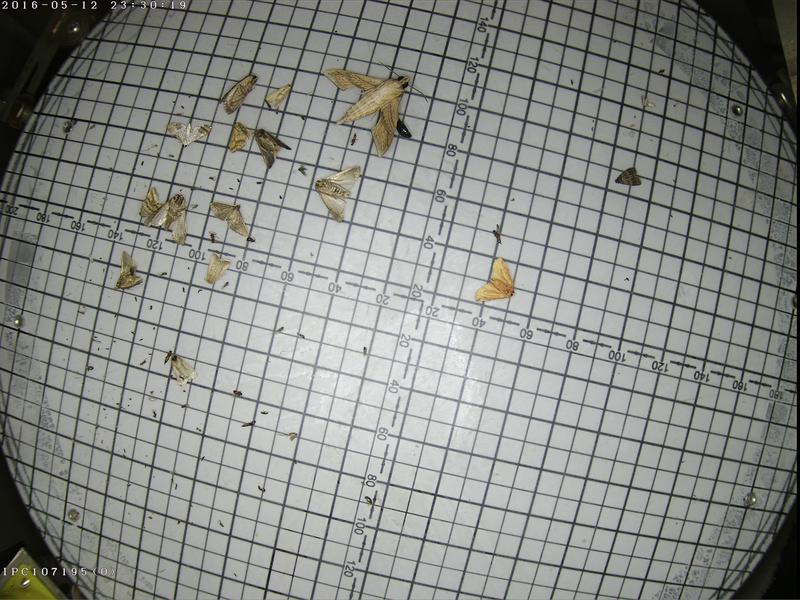Spodoptera litura: (314, 165, 359, 216), (149, 192, 191, 240), (216, 72, 261, 111)
Stem borer: (168, 353, 193, 385), (204, 250, 228, 282)
